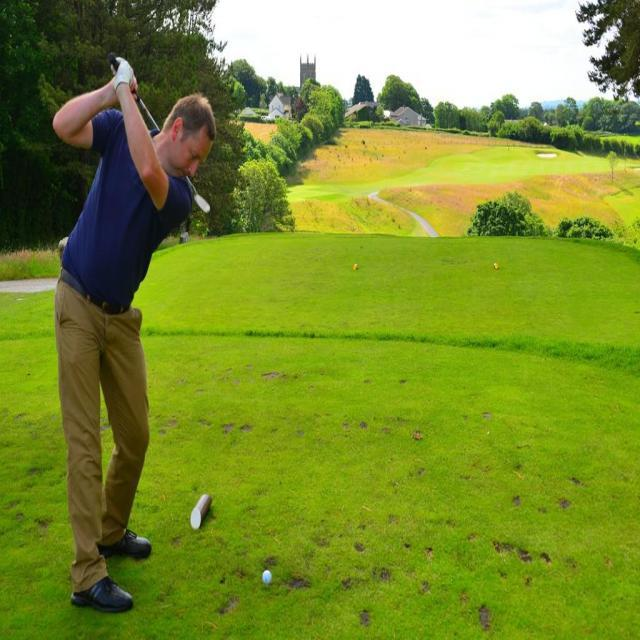ClubHead: (187, 182, 213, 217)
GolfBall: (255, 565, 277, 591)
